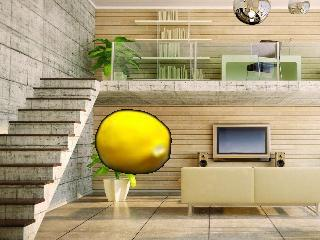lemon: (96, 111, 171, 174)
